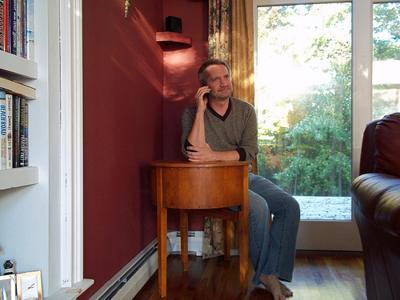person: (184, 58, 302, 300)
